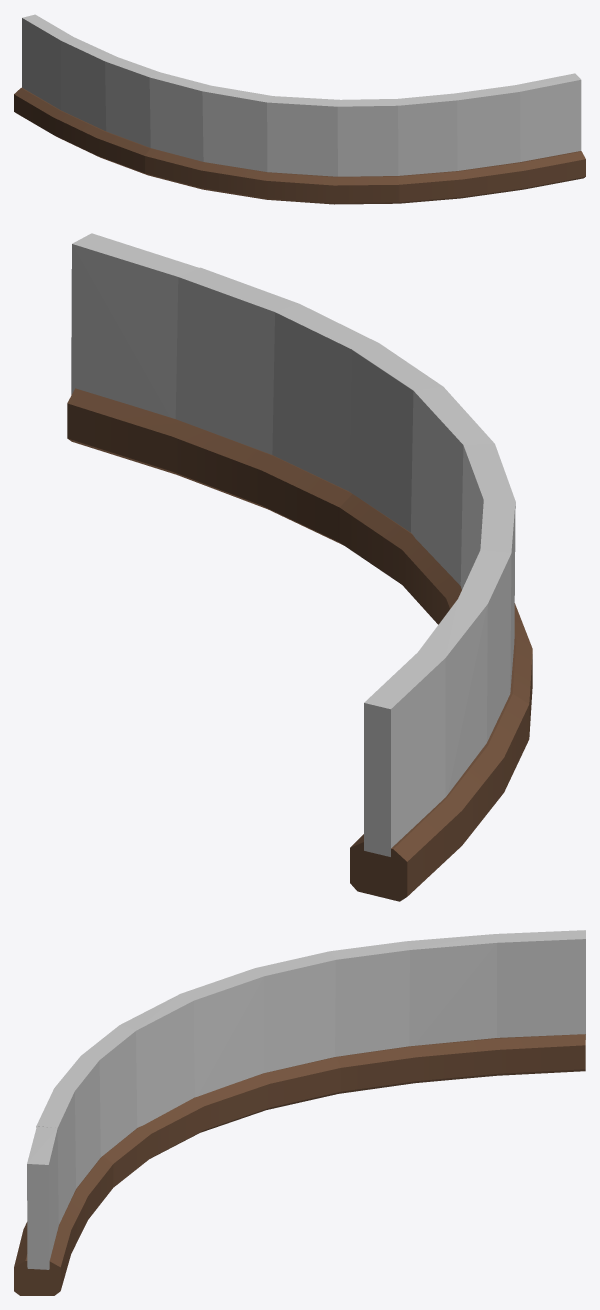
The model's file is SM_Bld_Stairs_Railing_Round_03.fbx.
3 views of the same model, one above another, from view 1: azimuth 30°, elevation 25°; view 2: azimuth 150°, elevation 25°; view 3: azimuth 270°, elevation 25° (orthographic). The views are drawn at different scales.
Parts seen in each view (by area): view 1: SM_Bld_Stairs_Railing_Round_03_ConvexHulls, SM_Bld_Stairs_Railing_Round_03; view 2: SM_Bld_Stairs_Railing_Round_03_ConvexHulls, SM_Bld_Stairs_Railing_Round_03; view 3: SM_Bld_Stairs_Railing_Round_03_ConvexHulls, SM_Bld_Stairs_Railing_Round_03.
Part boxes in pixels (x1,y1,x2,y2): SM_Bld_Stairs_Railing_Round_03_ConvexHulls: (22, 14, 581, 176); SM_Bld_Stairs_Railing_Round_03: (14, 87, 585, 204); SM_Bld_Stairs_Railing_Round_03_ConvexHulls: (71, 233, 515, 856); SM_Bld_Stairs_Railing_Round_03: (67, 388, 532, 901); SM_Bld_Stairs_Railing_Round_03_ConvexHulls: (27, 930, 585, 1269); SM_Bld_Stairs_Railing_Round_03: (14, 1034, 585, 1295).
Bounding box in the file's own units: 393 × 391 × 99.75.
2 materials, 1 textured.
